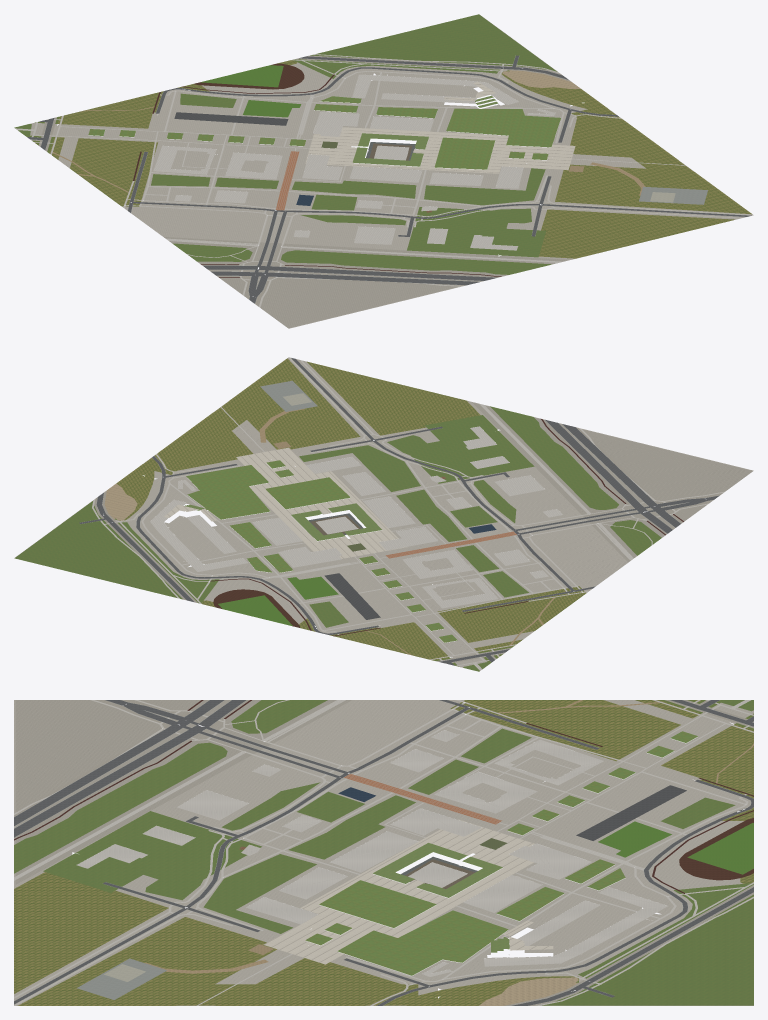
3 renders of one model, top to bottom at view 1: azimuth 30°, elevation 25°; view 2: azimuth 150°, elevation 25°; view 3: azimuth 270°, elevation 25°, orthographic. The views are drawn at different scales.
Parts seen in each view (by area): view 1: ground-look-campusPaving, ground-look-vacantWeeds, ground-look-grassPark, building-floor-cap, ground-look-cityPaving, ground-look-block, ground-look-asphalt, ground-look-lawnMown, ground-look-aptGarden, ground-look-flagstone, ground-look-sidewalk, ground-look-turf (+8 smaller); view 2: ground-look-campusPaving, ground-look-vacantWeeds, ground-look-grassPark, building-floor-cap, ground-look-cityPaving, ground-look-block, ground-look-asphalt, ground-look-lawnMown, ground-look-aptGarden, ground-look-flagstone, ground-look-sidewalk, ground-look-turf (+8 smaller); view 3: ground-look-campusPaving, ground-look-vacantWeeds, ground-look-grassPark, building-floor-cap, ground-look-cityPaving, ground-look-block, ground-look-asphalt, ground-look-lawnMown, ground-look-aptGarden, ground-look-flagstone, ground-look-sidewalk, ground-look-turf (+9 smaller).
Part boxes in pixels (x1=…): ground-look-campusPaving: x1=30, y1=14, x2=752, y2=328; ground-look-vacantWeeds: x1=33, y1=60, x2=751, y2=258; ground-look-grassPark: x1=14, y1=59, x2=551, y2=274; building-floor-cap: x1=153, y1=74, x2=555, y2=250; ground-look-cityPaving: x1=164, y1=237, x2=568, y2=328; ground-look-block: x1=15, y1=54, x2=753, y2=307; ground-look-asphalt: x1=27, y1=55, x2=751, y2=303; ground-look-lawnMown: x1=88, y1=96, x2=560, y2=169; ground-look-aptGarden: x1=310, y1=14, x2=557, y2=71; ground-look-flagstone: x1=305, y1=82, x2=575, y2=173; ground-look-sidewalk: x1=32, y1=55, x2=571, y2=305; ground-look-turf: x1=201, y1=65, x2=301, y2=117; ground-look-campusPaving: x1=15, y1=358, x2=753, y2=667; ground-look-vacantWeeds: x1=116, y1=358, x2=586, y2=660; ground-look-grassPark: x1=118, y1=406, x2=661, y2=671; building-floor-cap: x1=150, y1=426, x2=562, y2=608; ground-look-cityPaving: x1=472, y1=402, x2=752, y2=562; ground-look-block: x1=92, y1=357, x2=724, y2=670; ground-look-asphalt: x1=79, y1=358, x2=719, y2=665; ground-look-lawnMown: x1=186, y1=460, x2=457, y2=642; ground-look-aptGarden: x1=14, y1=501, x2=182, y2=599; ground-look-flagstone: x1=164, y1=447, x2=407, y2=558; ground-look-sidewalk: x1=94, y1=419, x2=721, y2=663; ground-look-turf: x1=218, y1=576, x2=338, y2=625; ground-look-campusPaving: x1=14, y1=700, x2=753, y2=1005; ground-look-vacantWeeds: x1=14, y1=700, x2=753, y2=1005; ground-look-grassPark: x1=14, y1=700, x2=753, y2=978; building-floor-cap: x1=76, y1=730, x2=667, y2=976; ground-look-cityPaving: x1=15, y1=700, x2=351, y2=884; ground-look-block: x1=14, y1=700, x2=753, y2=1005; ground-look-asphalt: x1=14, y1=700, x2=753, y2=1005; ground-look-lawnMown: x1=305, y1=731, x2=697, y2=975; ground-look-aptGarden: x1=542, y1=894, x2=753, y2=1005; ground-look-flagstone: x1=263, y1=819, x2=553, y2=964; ground-look-sidewalk: x1=14, y1=700, x2=753, y2=1005; ground-look-turf: x1=598, y1=821, x2=753, y2=874.
Size of the model in its own units: 696 by 12.04 by 712.
29 materials, 29 textured.
